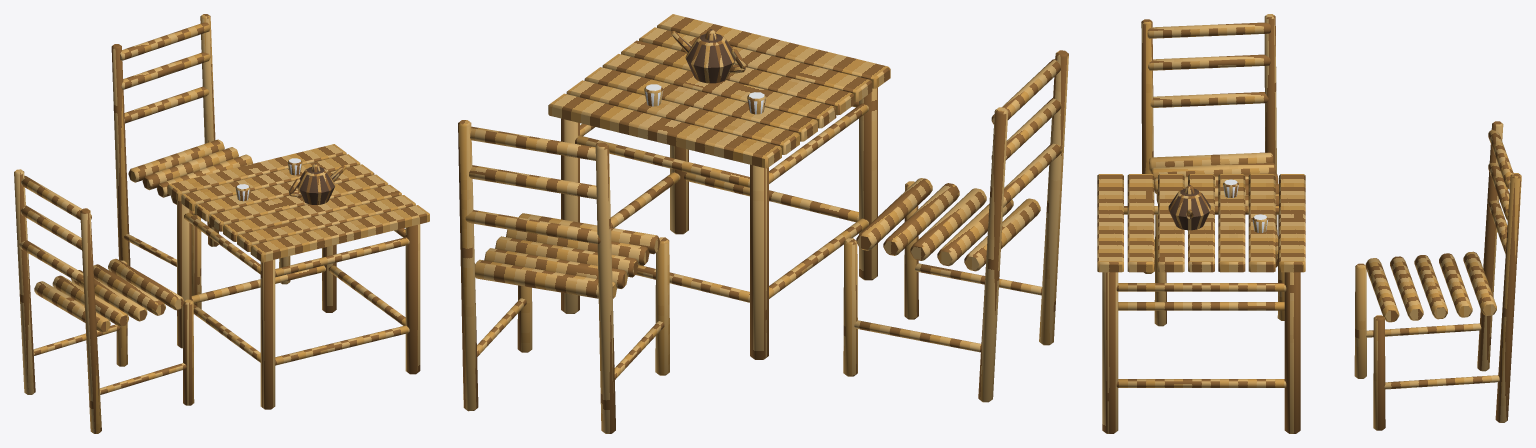
Rendered from cn_bamboo_table_set_1.glb.
3 views of the same model, side by side, from view 1: azimuth 30°, elevation 25°; view 2: azimuth 150°, elevation 25°; view 3: azimuth 270°, elevation 25° (orthographic). The views are drawn at different scales.
Parts seen in each view (by area): view 1: cn_bamboo_table_set_2; view 2: cn_bamboo_table_set_2; view 3: cn_bamboo_table_set_2.
Part boxes in pixels (x1=…): cn_bamboo_table_set_2: x1=14, y1=14, x2=429, y2=433; cn_bamboo_table_set_2: x1=458, y1=14, x2=1068, y2=433; cn_bamboo_table_set_2: x1=1097, y1=14, x2=1521, y2=433.
Bounding box in the file's own units: 1.44 × 0.9217 × 1.44.
Materials: 3 (3 with a texture image).
